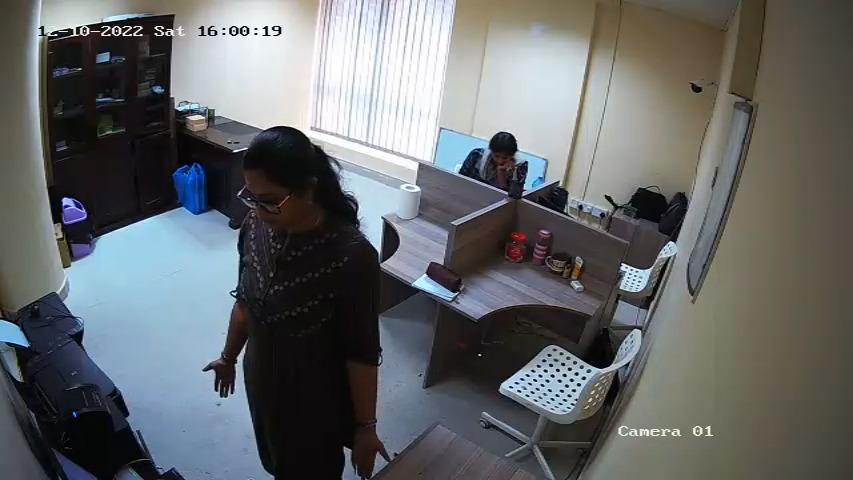no_gloves: (349, 431, 392, 480), (202, 359, 238, 400)
